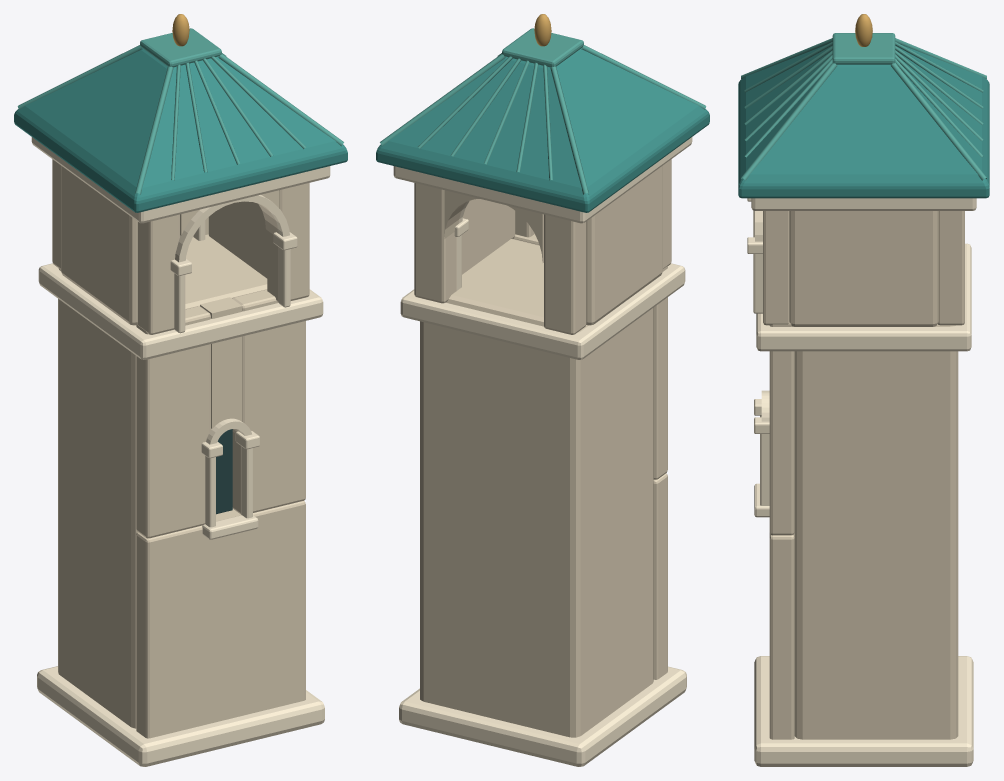
The model's file is world01-lookout-v1.glb.
3 views of the same model, side by side, from view 1: azimuth 30°, elevation 25°; view 2: azimuth 150°, elevation 25°; view 3: azimuth 270°, elevation 25° (orthographic). The views are drawn at different scales.
Visible parts, largest first — view 1: Ivory limestone, Patinated copper, Carved pale edges, Raised copper seams, Deep blue recess; view 2: Ivory limestone, Patinated copper, Carved pale edges, Raised copper seams; view 3: Ivory limestone, Patinated copper, Carved pale edges, Raised copper seams, Warm brass.
Part boxes in pixels (left/top/right/bottom): Ivory limestone: left=52, top=159, right=309, bottom=738; Patinated copper: left=14, top=48, right=347, bottom=212; Carved pale edges: left=31, top=137, right=330, bottom=766; Raised copper seams: left=17, top=28, right=343, bottom=194; Deep blue recess: left=216, top=429, right=232, bottom=514; Ivory limestone: left=414, top=159, right=671, bottom=737; Patinated copper: left=376, top=48, right=709, bottom=212; Carved pale edges: left=393, top=137, right=692, bottom=766; Raised copper seams: left=380, top=28, right=706, bottom=194; Ivory limestone: left=763, top=211, right=964, bottom=739; Patinated copper: left=738, top=45, right=989, bottom=198; Carved pale edges: left=747, top=198, right=976, bottom=766; Raised copper seams: left=741, top=33, right=986, bottom=180; Warm brass: left=855, top=14, right=872, bottom=46.
Size of the model in its own units: 3.12 by 9.71 by 3.12.
